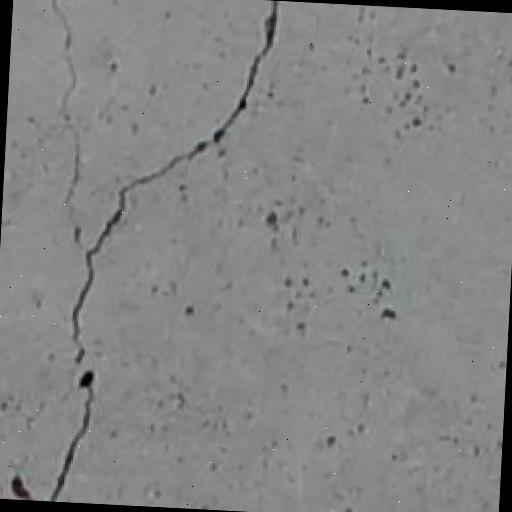spalling: (43, 5, 289, 495)
